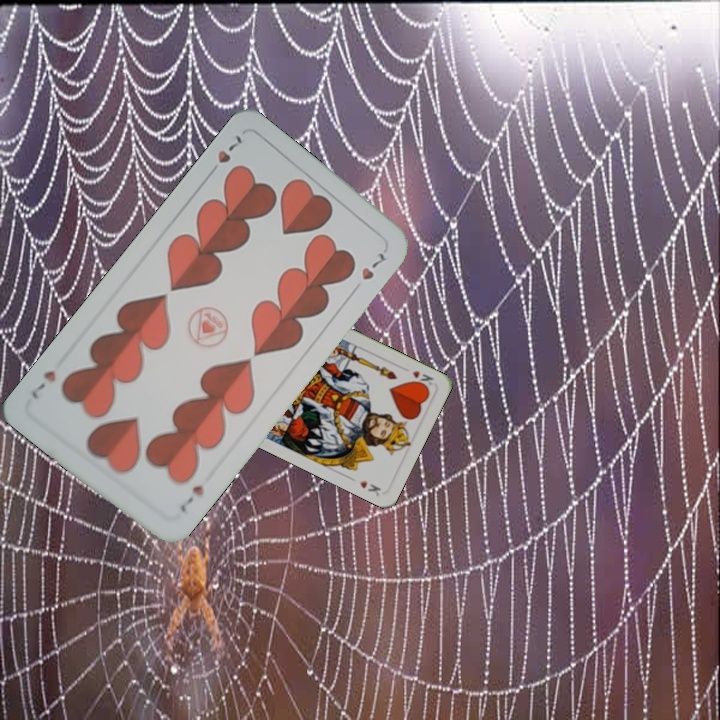H7: (204, 130, 245, 180), (176, 481, 207, 516)
HK: (408, 367, 436, 391)
